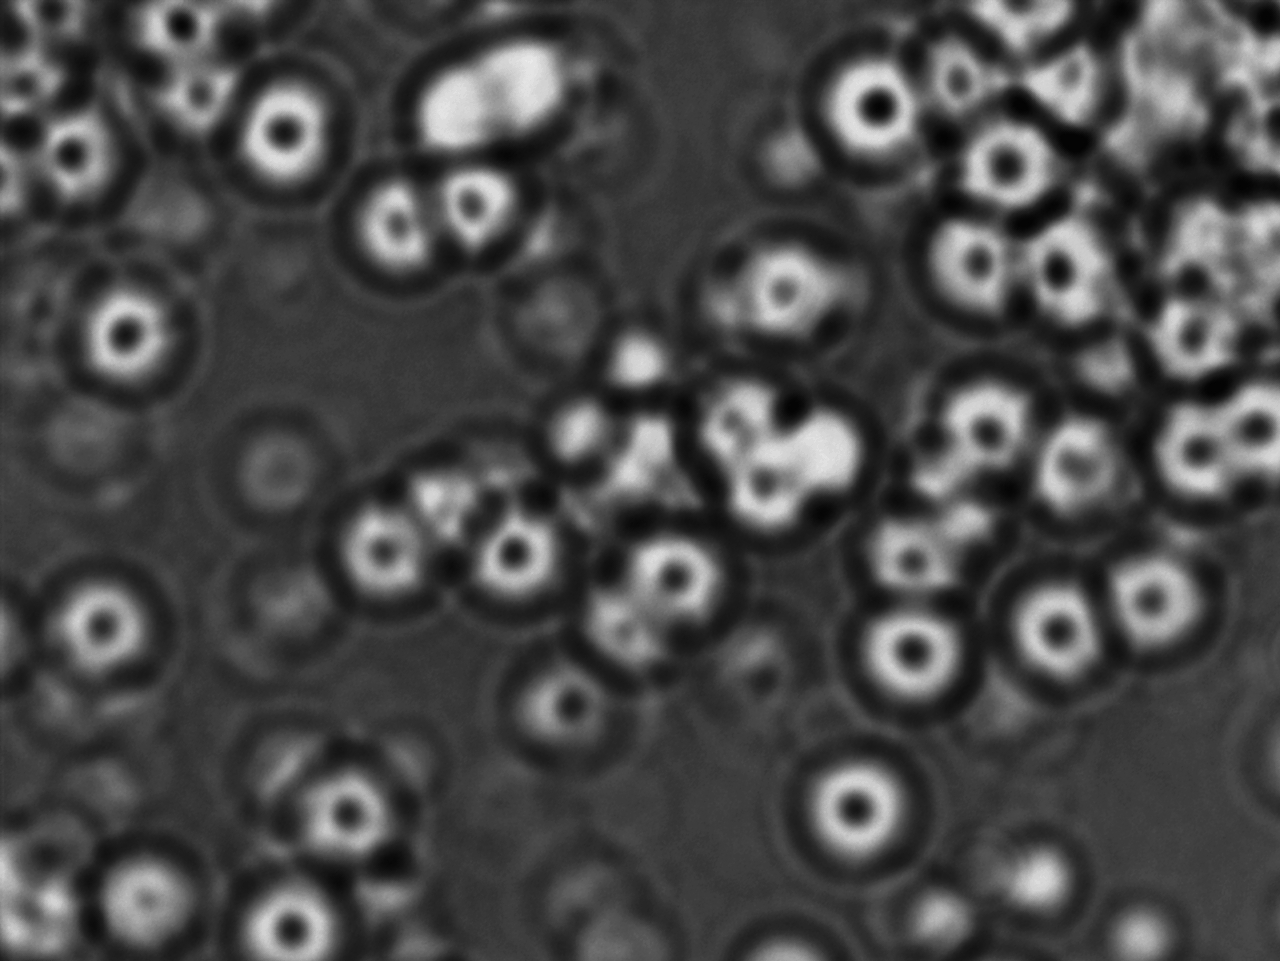depth:32: (783, 726, 927, 878), (807, 42, 946, 176), (992, 563, 1121, 700), (216, 65, 349, 195), (608, 510, 740, 640), (1093, 542, 1225, 667), (48, 567, 171, 703), (449, 488, 569, 625), (836, 589, 963, 716), (327, 489, 446, 621), (903, 195, 1023, 325), (925, 358, 1049, 483), (65, 284, 194, 400), (288, 755, 417, 871), (1003, 211, 1124, 333), (942, 106, 1067, 221), (223, 858, 348, 959), (1150, 405, 1252, 517)
